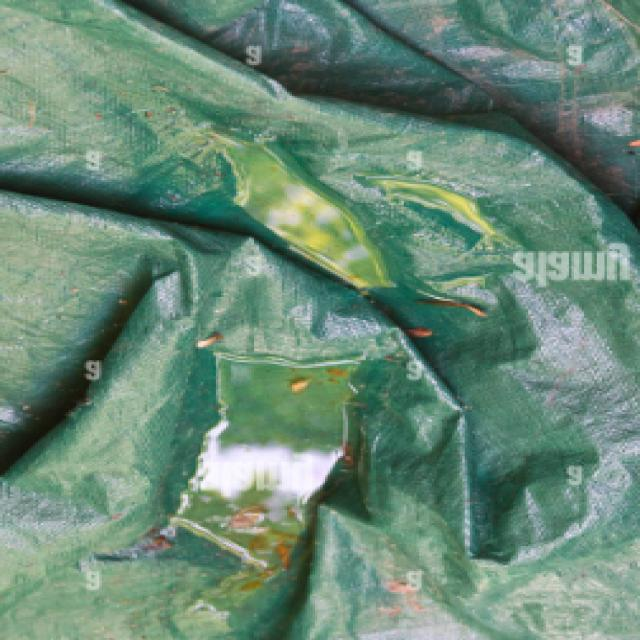Breeding Place: (84, 295, 448, 611)
